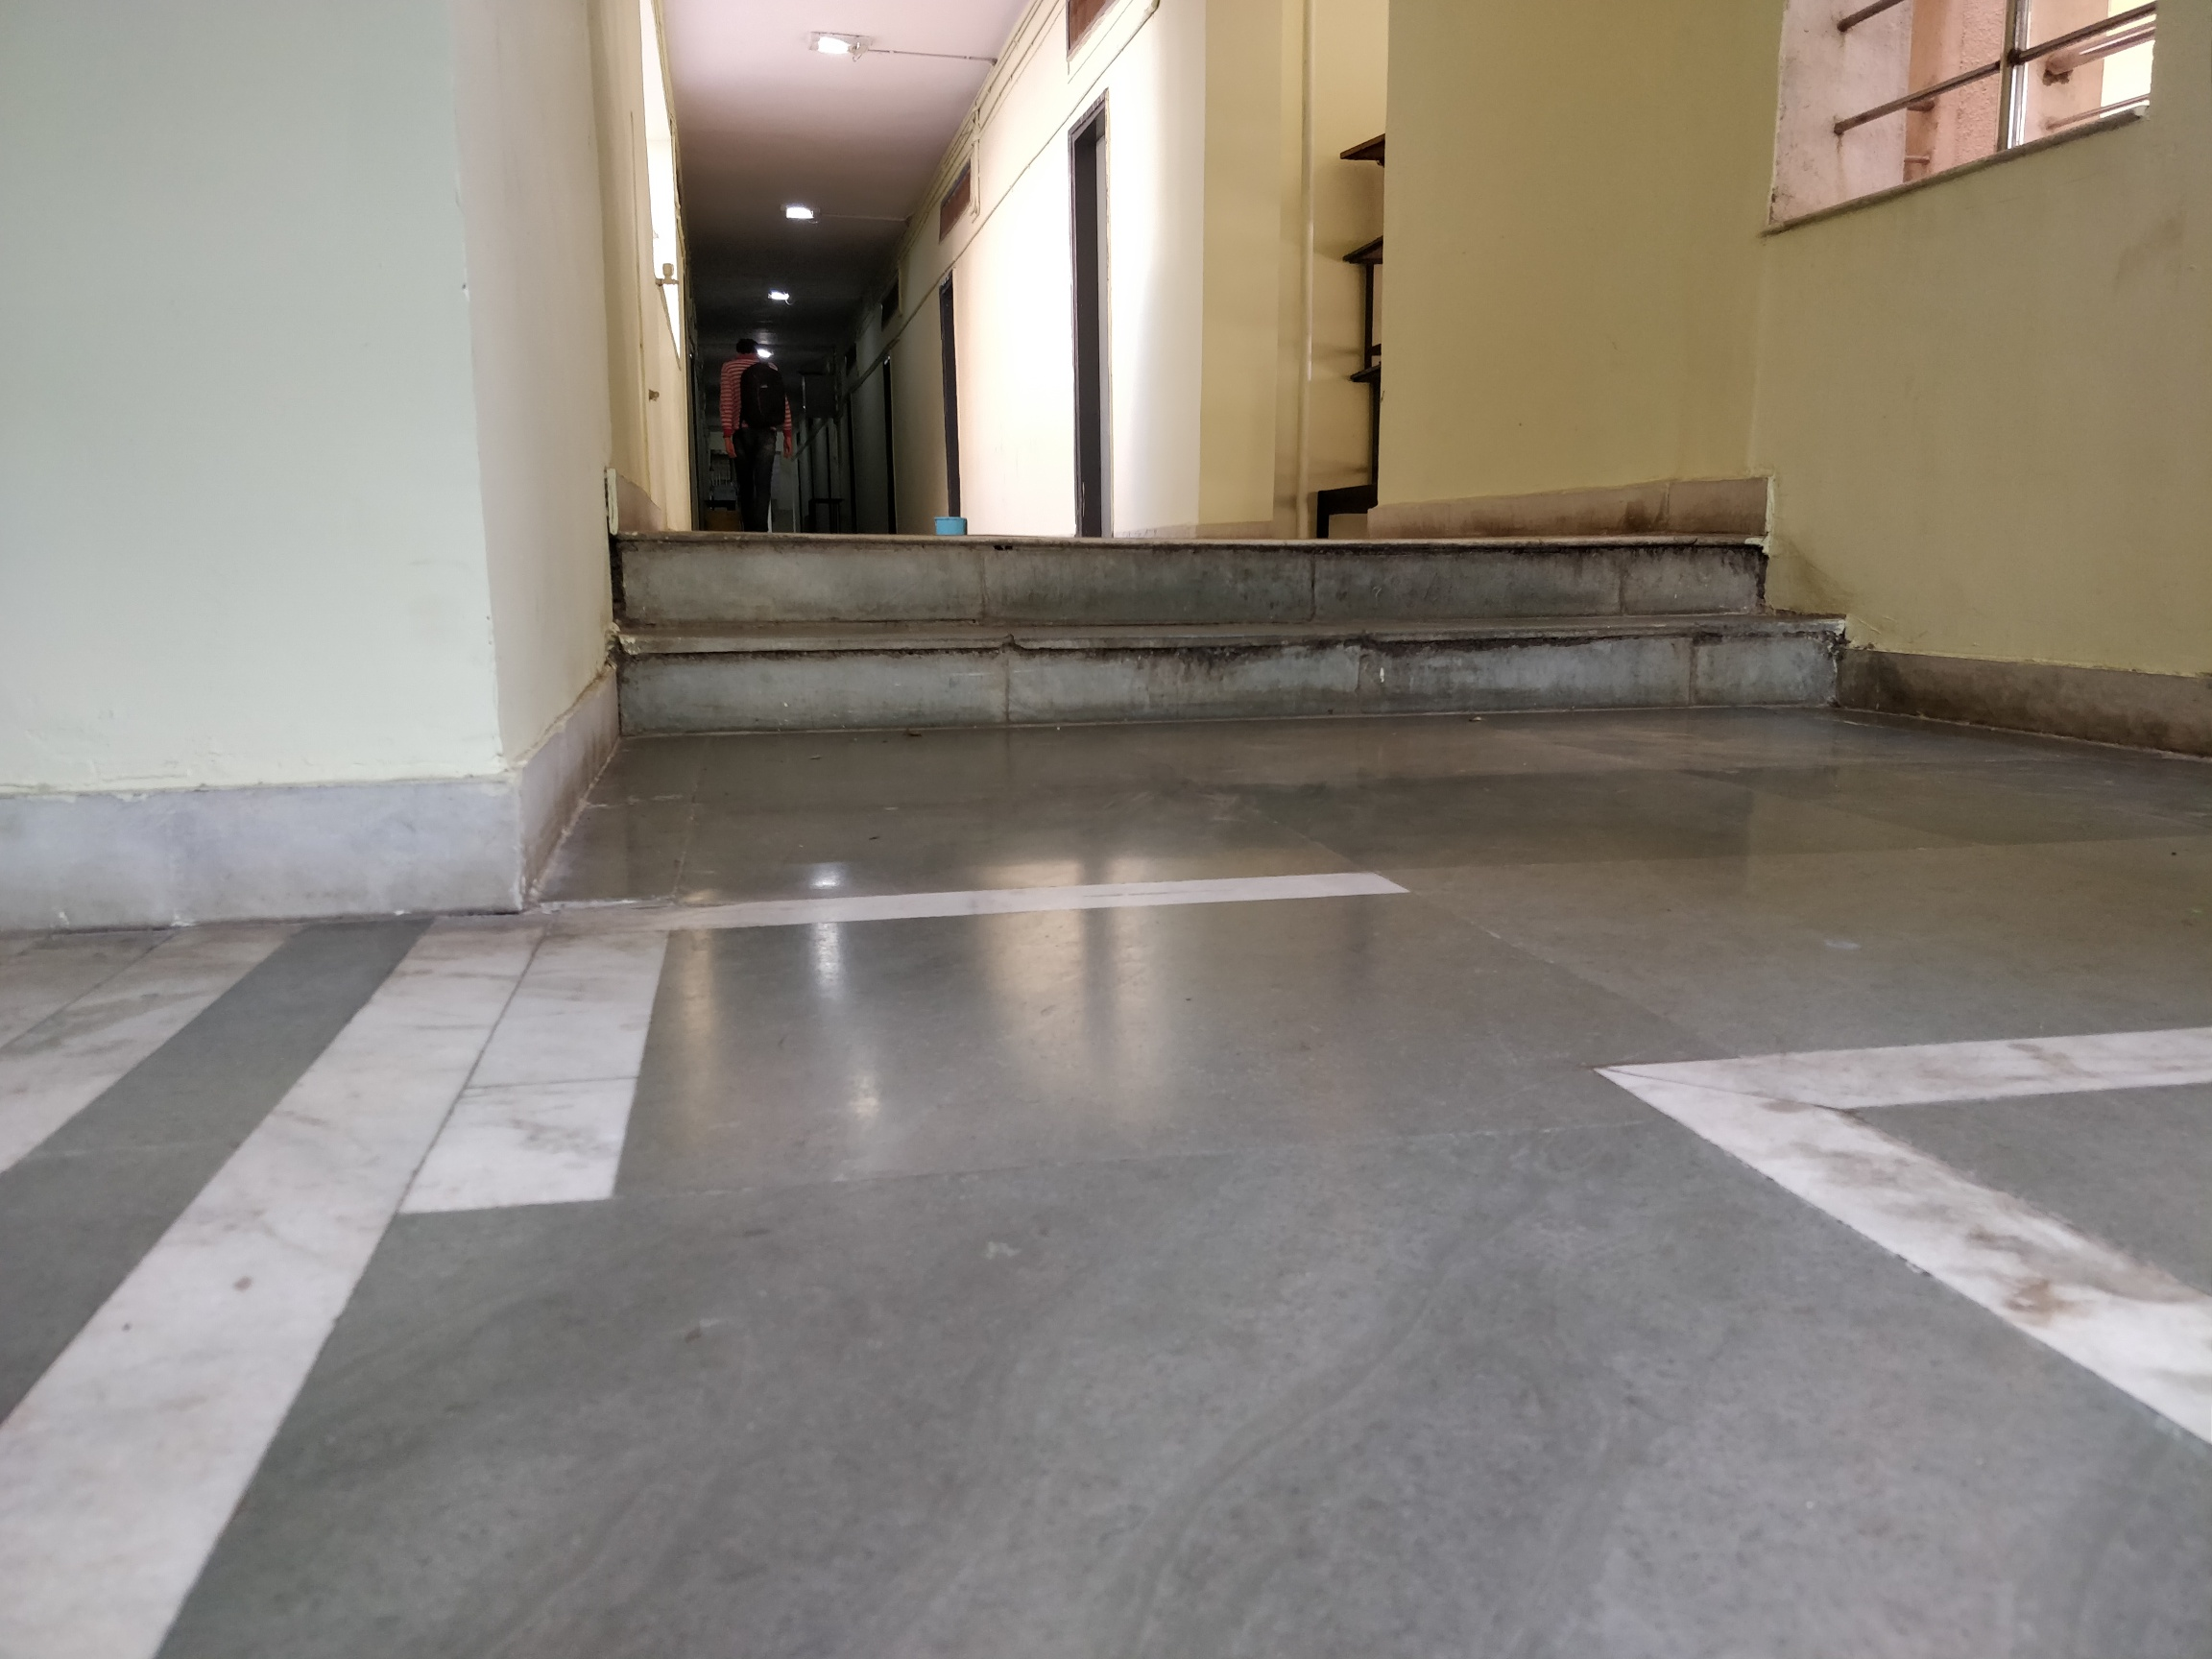stairs_up: (611, 516, 1839, 721)
